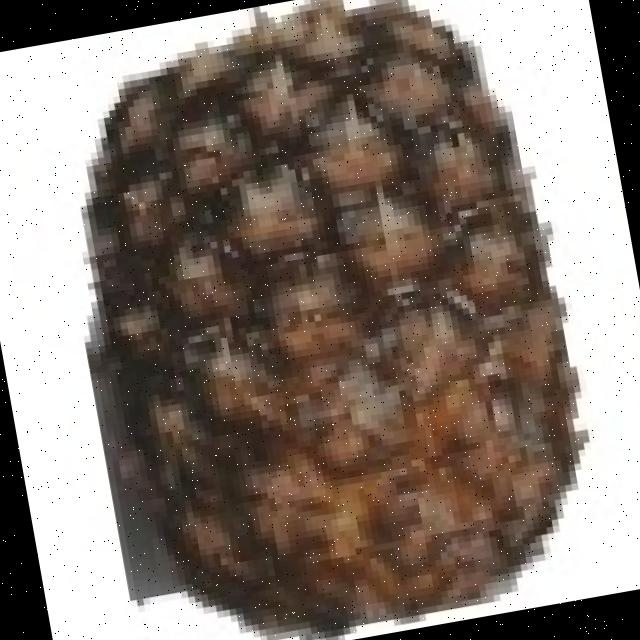pineapple: (101, 0, 584, 619)
